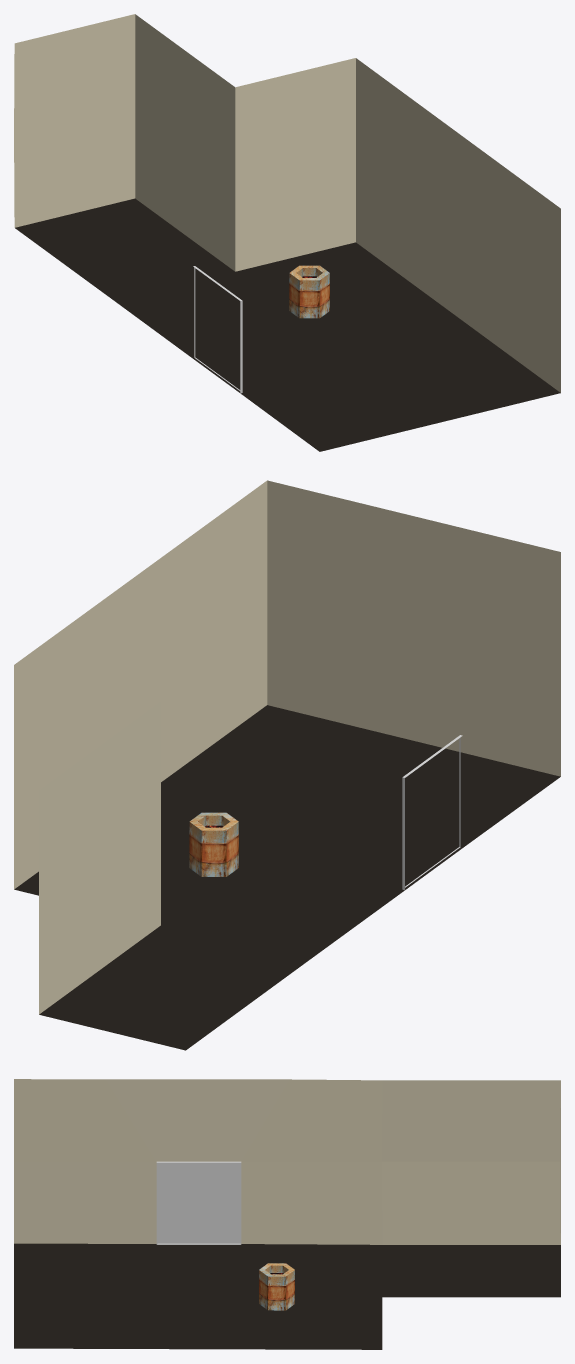
The model's file is room2.glb.
3 renders of one model, top to bottom at view 1: azimuth 30°, elevation 25°; view 2: azimuth 150°, elevation 25°; view 3: azimuth 270°, elevation 25°, orthographic. The views are drawn at different scales.
Visible parts, largest first — view 1: Cube, barrel; view 2: Cube, barrel; view 3: Cube, barrel.
Part boxes in pixels (x1=…): Cube: x1=14, y1=14, x2=560, y2=451; barrel: x1=289, y1=265, x2=329, y2=318; Cube: x1=14, y1=480, x2=560, y2=1050; barrel: x1=189, y1=812, x2=238, y2=876; Cube: x1=14, y1=1079, x2=560, y2=1349; barrel: x1=259, y1=1263, x2=294, y2=1310.
Size of the model in its own units: 10.77 by 7.86 by 23.58.
4 materials, 1 textured.
